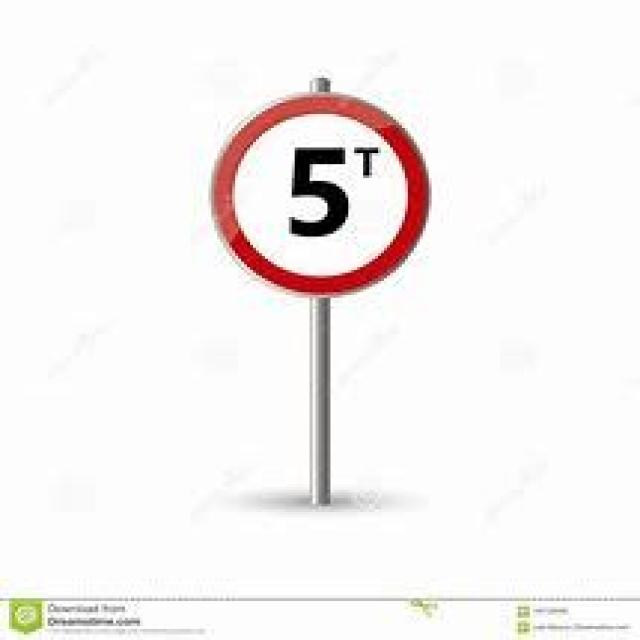load_limit: (208, 92, 432, 295)
